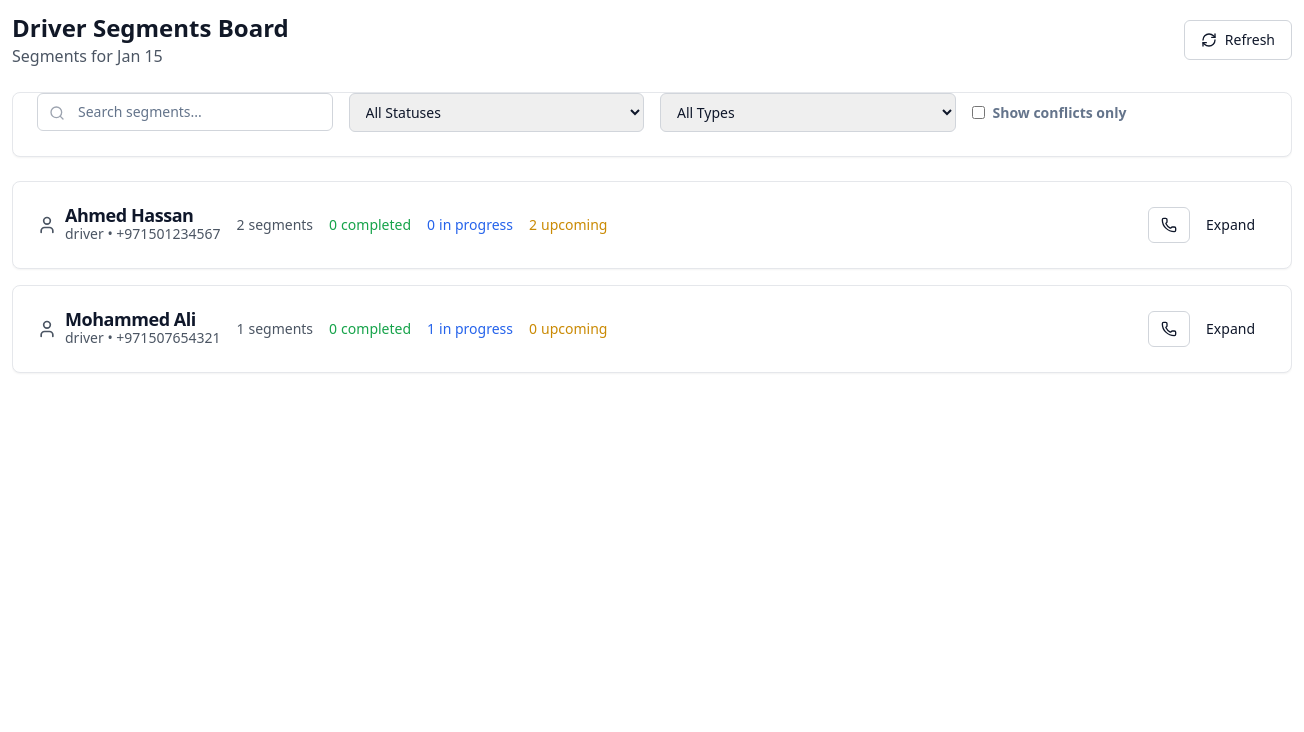
Scenario: DriverSegmentsBoard › allows expanding and collapsing driver details
Expected: the text "Patient Pickup - John Doe" is not shown
Note: Click to expand
Click the button "Expand" in the row of "+971501234567".
click(1231, 225)  # box [1194,207,1267,243]
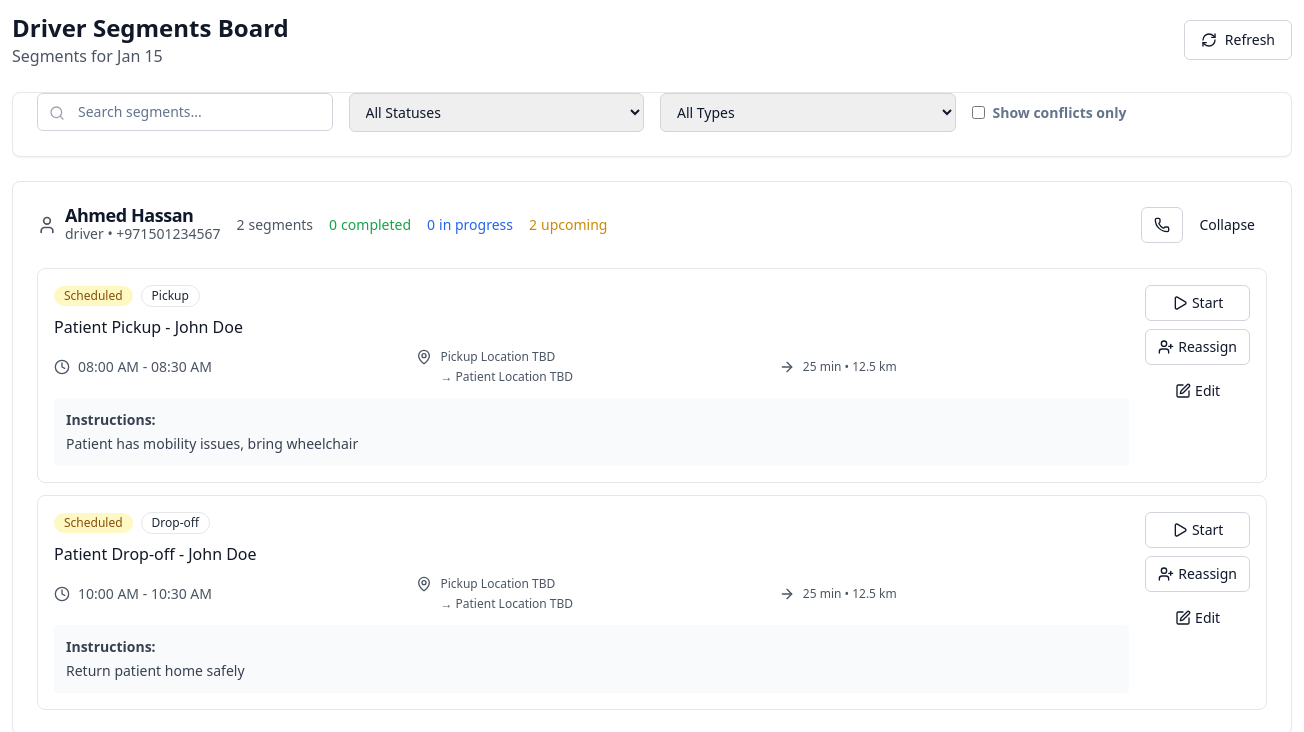
Expected: the heading "Patient Pickup - John Doe" is shown, [54,316,243,338]
Expected: the heading "Patient Drop-off - John Doe" is shown, [54,543,257,565]
